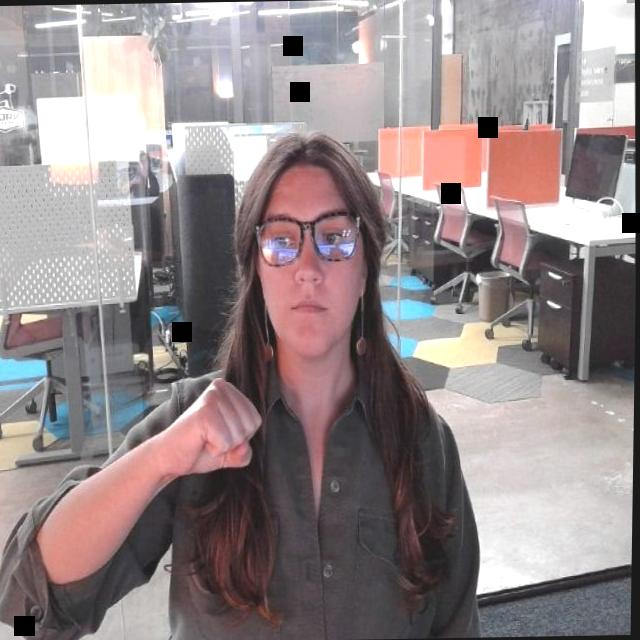Rock: (153, 364, 271, 486)
